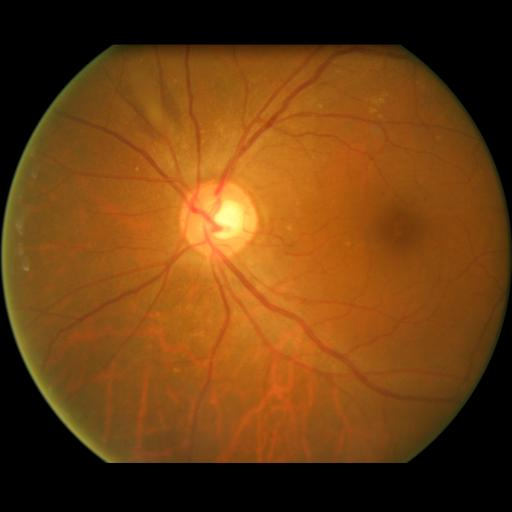Optic Cup: (209, 201, 244, 239)
Optic Disc: (179, 181, 257, 259)
